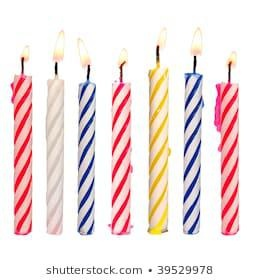fire: (51, 28, 65, 60), (188, 26, 203, 54)
